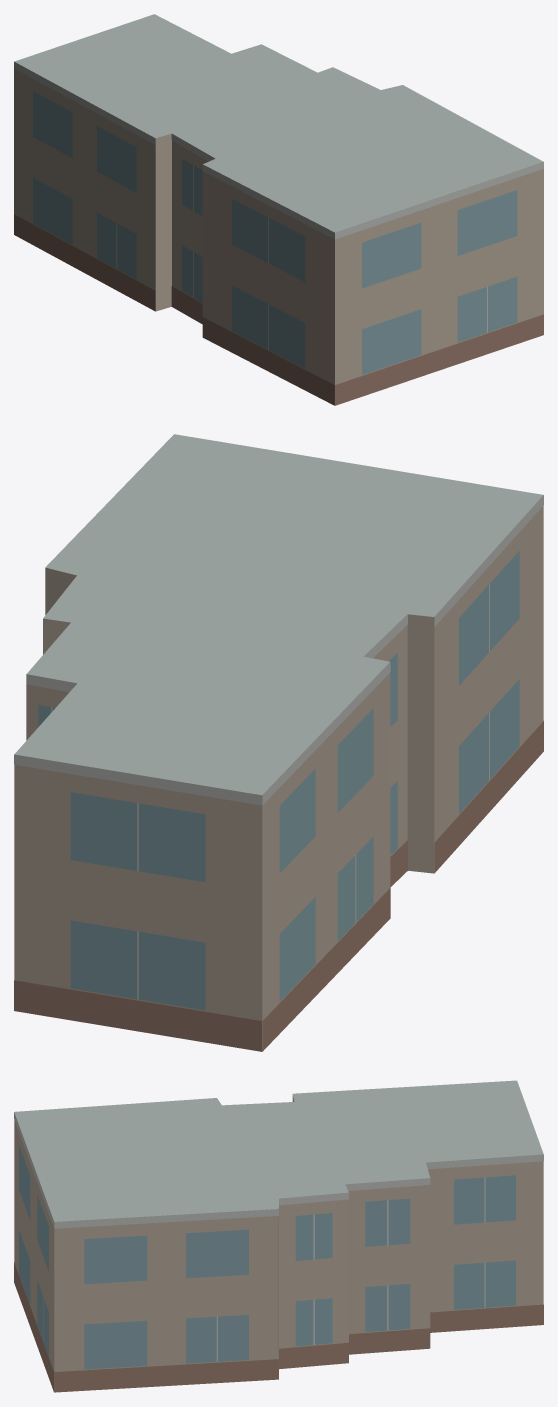
Rendered from survey-upis-33037611.glb.
The picture shows the model from 3 angles, top to bottom: view 1: azimuth 30°, elevation 25°; view 2: azimuth 150°, elevation 25°; view 3: azimuth 270°, elevation 25°; orthographic projection. The views are drawn at different scales.
Parts seen in each view (by area): view 1: survey-upis-33037611.tmp; view 2: survey-upis-33037611.tmp; view 3: survey-upis-33037611.tmp.
Boxes of the visible parts, box(x1,y1,x2,y2) form: survey-upis-33037611.tmp: box(14, 14, 543, 405); survey-upis-33037611.tmp: box(14, 434, 543, 1051); survey-upis-33037611.tmp: box(14, 1080, 543, 1392).
Bounding box in the file's own units: 10.87 × 6.1 × 17.18.
